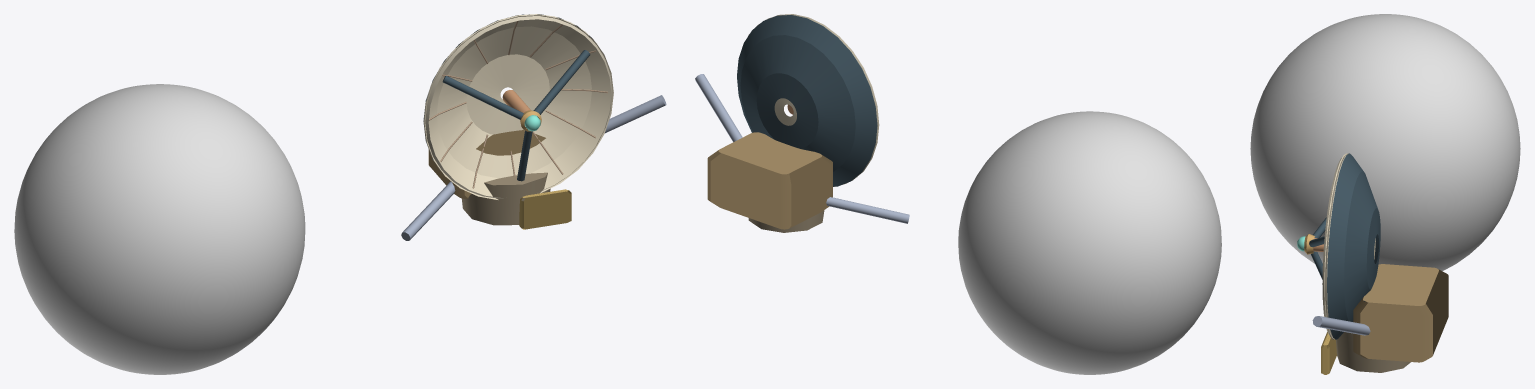
File: pioneer-jupiter.obj
3 views of the same model, side by side, from view 1: azimuth 30°, elevation 25°; view 2: azimuth 150°, elevation 25°; view 3: azimuth 270°, elevation 25° (orthographic). The views are drawn at different scales.
Parts seen in each view (by area): view 1: pioneer-jupiter; view 2: pioneer-jupiter; view 3: pioneer-jupiter.
Boxes of the visible parts, x1,y1,x2,y2 form: pioneer-jupiter: [14, 14, 666, 374]; pioneer-jupiter: [695, 14, 1221, 374]; pioneer-jupiter: [1250, 14, 1520, 374].
Size of the model in its own units: 1.42 by 0.6401 by 0.6.
